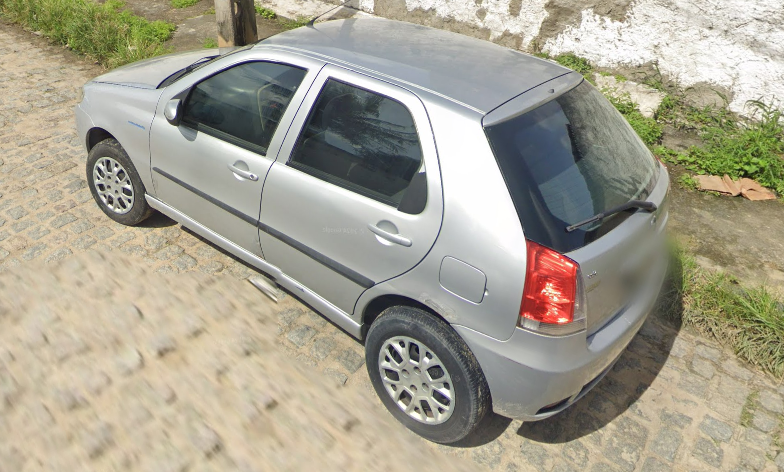car: (75, 16, 682, 449)
